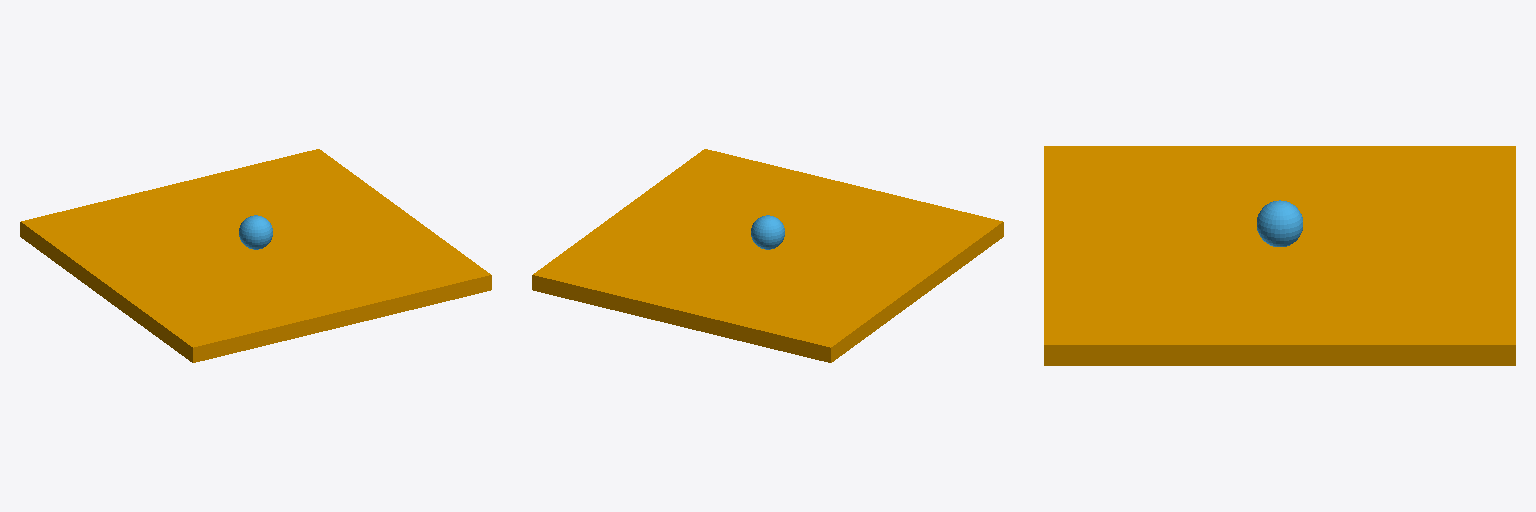
robot.urdf — simple_robot:
<robot name="simple_robot">
    <mujoco>
        <compiler meshdir="meshes/" balanceinertia="true"/>
    </mujoco>

    <link name="base_link">
        <visual>
            <geometry>
                <box size="1.0 1.0 0.05"/>
            </geometry>
        </visual>

        <collision>
            <origin rpy="0 0 0" xyz="0 0 0"/>
            <geometry>
                <box size="1.0 1.0 0.05"/>
            </geometry>
        </collision>

        <inertial>
            <mass value="10"/>
            <inertia ixx="0.1" ixy="0.0" ixz="0.0" iyy="0.1" iyz="0.0" izz="0.1"/>
        </inertial>
    </link>

    <link name="ball">
        <visual>
            <geometry>
                <sphere radius="0.05"/>
            </geometry>
        </visual>

        <collision>
            <origin rpy="0 0 0" xyz="0 0 0"/>
            <geometry>
                <sphere radius="0.05"/>
            </geometry>
        </collision>

        <inertial>
            <mass value="1"/>
            <inertia ixx="0.1" ixy="0.0" ixz="0.0" iyy="0.1" iyz="0.0" izz="0.1"/>
        </inertial>
    </link>

    <joint name="ball_joint" type="prismatic">
        <axis xyz="0 0 1"/>
        <limit effort="1000.0" lower="0.0" upper="1.0" velocity="0.5"/>
        <origin rpy="0 0 0" xyz="0 0 0.075"/>
        <parent link="base_link"/>
        <child link="ball"/>
    </joint>

</robot>

--- Facts derived from the render (not from the file) ---
The picture shows the robot from 3 angles, left to right: view 1: azimuth 30°, elevation 25°; view 2: azimuth 150°, elevation 25°; view 3: azimuth 270°, elevation 25°; orthographic projection.
Robot: simple_robot — 2 links, 1 joints (1 prismatic); root link base_link; default pose: all joints at 0.
Links seen in each view (by area): view 1: base_link, ball; view 2: base_link, ball; view 3: base_link, ball.
Link boxes in pixels (<box>): base_link: <box>20,149,491,362</box>; ball: <box>239,215,272,249</box>; base_link: <box>532,149,1003,362</box>; ball: <box>751,215,784,249</box>; base_link: <box>1044,146,1515,365</box>; ball: <box>1257,200,1302,246</box>.
Bounding box of the posed robot: 1 × 1 × 0.15 m (x, y, z).
Geometry: primitives only (box / cylinder / sphere), no mesh files.